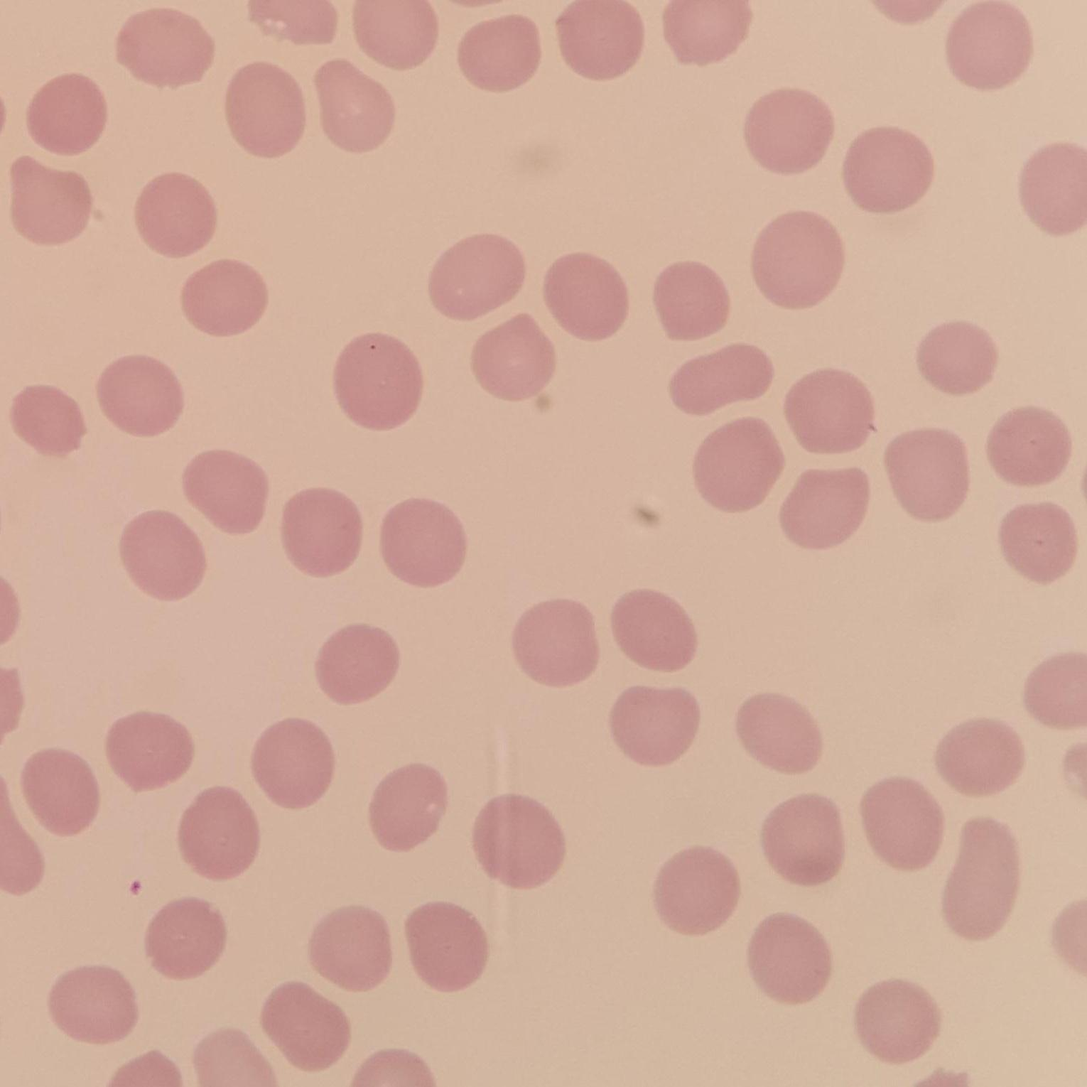Uninfected: (748, 212, 850, 309), (942, 816, 1021, 939), (472, 791, 566, 887), (332, 332, 425, 429), (691, 417, 783, 512), (427, 232, 526, 320), (118, 509, 207, 600), (782, 367, 876, 453), (224, 62, 308, 158), (842, 124, 934, 211), (741, 87, 835, 172), (176, 787, 260, 882), (182, 447, 271, 536), (379, 497, 467, 587), (510, 597, 600, 685), (884, 428, 970, 520), (313, 58, 397, 152), (759, 794, 845, 885), (260, 983, 349, 1070), (114, 7, 212, 86), (653, 846, 740, 934), (9, 155, 94, 245), (946, 1, 1032, 89), (106, 710, 196, 794), (860, 776, 943, 867), (470, 314, 556, 401), (308, 904, 395, 990), (610, 587, 698, 672), (404, 902, 488, 991), (252, 717, 335, 807), (281, 488, 364, 578), (778, 466, 869, 548), (543, 252, 629, 338), (747, 914, 831, 1002), (96, 354, 185, 437), (671, 340, 770, 414), (367, 763, 448, 853), (134, 171, 219, 256), (934, 716, 1022, 798), (735, 691, 823, 773), (314, 622, 399, 706), (26, 70, 109, 156), (985, 404, 1071, 487), (610, 685, 698, 766), (21, 747, 100, 836), (855, 980, 939, 1062), (556, 1, 645, 78), (48, 966, 135, 1044), (146, 896, 228, 978), (181, 259, 268, 336), (1017, 140, 1087, 232), (456, 15, 541, 90), (997, 502, 1077, 581), (916, 320, 998, 395), (653, 260, 731, 337), (662, 0, 750, 65), (352, 1, 437, 67), (11, 384, 87, 457)
